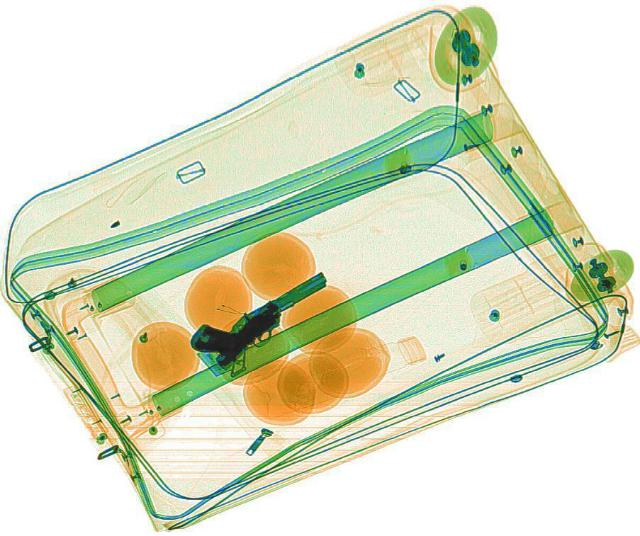Gun: (194, 267, 356, 377), (181, 283, 289, 368)
